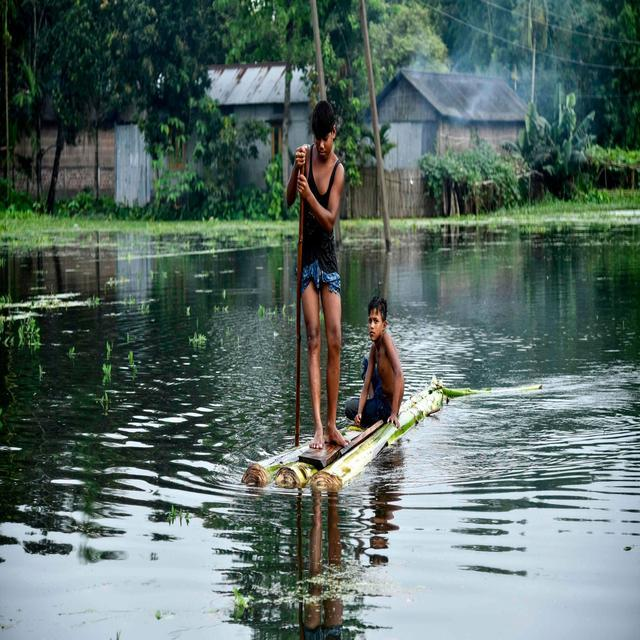Person-RiskLevel3: (278, 93, 360, 461), (340, 277, 435, 442)
